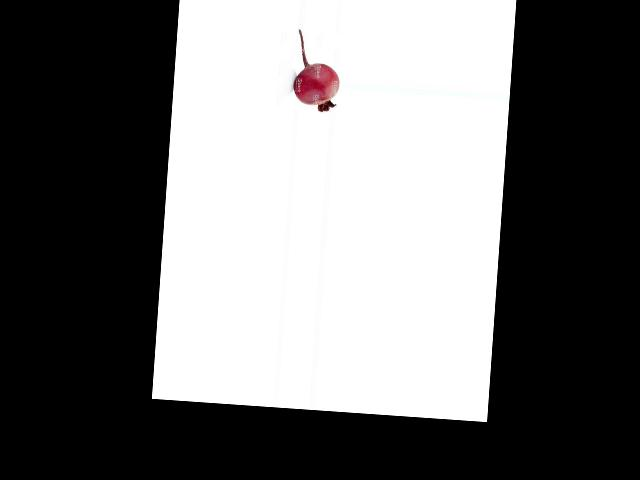beet: (291, 30, 342, 113)
